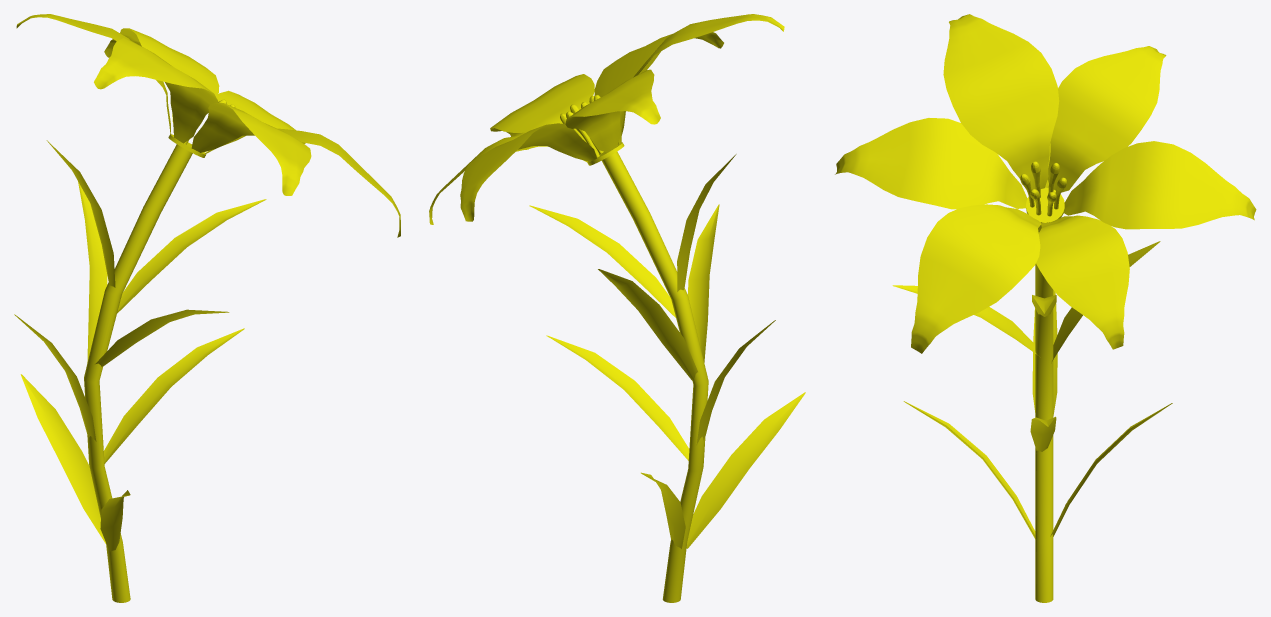
Rendered from New_YellowLily.fbx.
3 renders of one model, left to right at view 1: azimuth 30°, elevation 25°; view 2: azimuth 150°, elevation 25°; view 3: azimuth 270°, elevation 25°, orthographic. The views are drawn at different scales.
Parts seen in each view (by area): view 1: YellowLily_LOD0; view 2: YellowLily_LOD0; view 3: YellowLily_LOD0.
Boxes of the visible parts, bbox=[...] form: YellowLily_LOD0: bbox=[14, 14, 400, 602]; YellowLily_LOD0: bbox=[429, 14, 805, 602]; YellowLily_LOD0: bbox=[835, 14, 1256, 602].
Size of what is drawn, in the model's own units: 643 by 1079 by 738.
